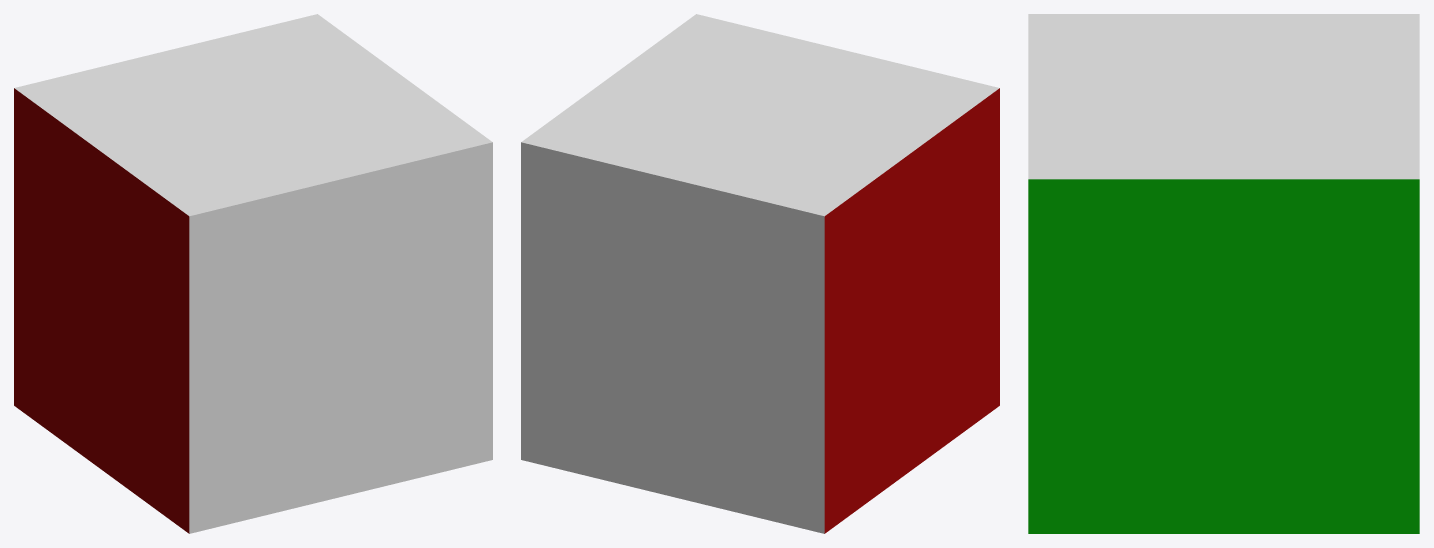
Rendered from cornellbox_closed.glb.
The picture shows the model from 3 angles, left to right: view 1: azimuth 30°, elevation 25°; view 2: azimuth 150°, elevation 25°; view 3: azimuth 270°, elevation 25°; orthographic projection. The views are drawn at different scales.
Visible parts, largest first — view 1: Back Wall.001, Red Wall, Ceiling; view 2: Back Wall, Red Wall, Ceiling; view 3: Green Wall, Ceiling.
Part boxes in pixels (x1,y1,x2,y2): Back Wall.001: (189,142,492,533); Red Wall: (14,88,189,533); Ceiling: (14,14,492,216); Back Wall: (521,142,824,533); Red Wall: (824,88,999,533); Ceiling: (521,14,999,216); Green Wall: (1028,179,1419,533); Ceiling: (1028,14,1419,179).
Bounding box in the file's own units: 10 × 10 × 10.
